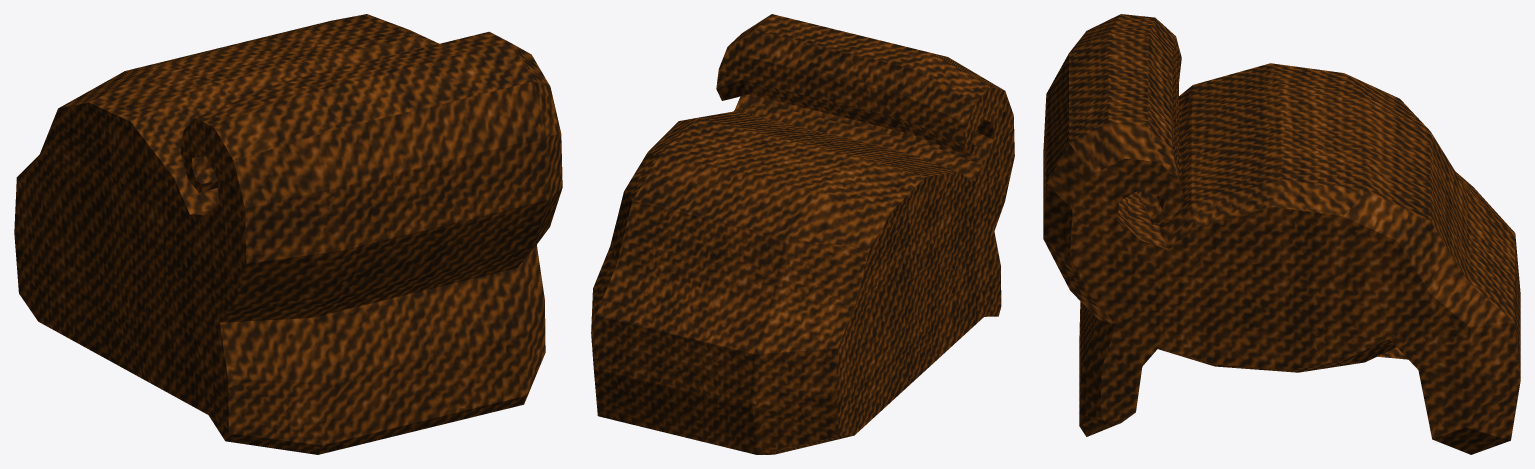
The model's file is PELUCA_0.3.fbx.
The picture shows the model from 3 angles, left to right: view 1: azimuth 30°, elevation 25°; view 2: azimuth 150°, elevation 25°; view 3: azimuth 270°, elevation 25°; orthographic projection. The views are drawn at different scales.
Visible parts, largest first — view 1: PELUCA; view 2: PELUCA; view 3: PELUCA.
Part boxes in pixels (x1,y1,x2,y2): PELUCA: [14, 14, 562, 454]; PELUCA: [591, 14, 1014, 454]; PELUCA: [1043, 14, 1520, 454].
Bounding box in the file's own units: 16.6 × 24.08 × 18.48.
